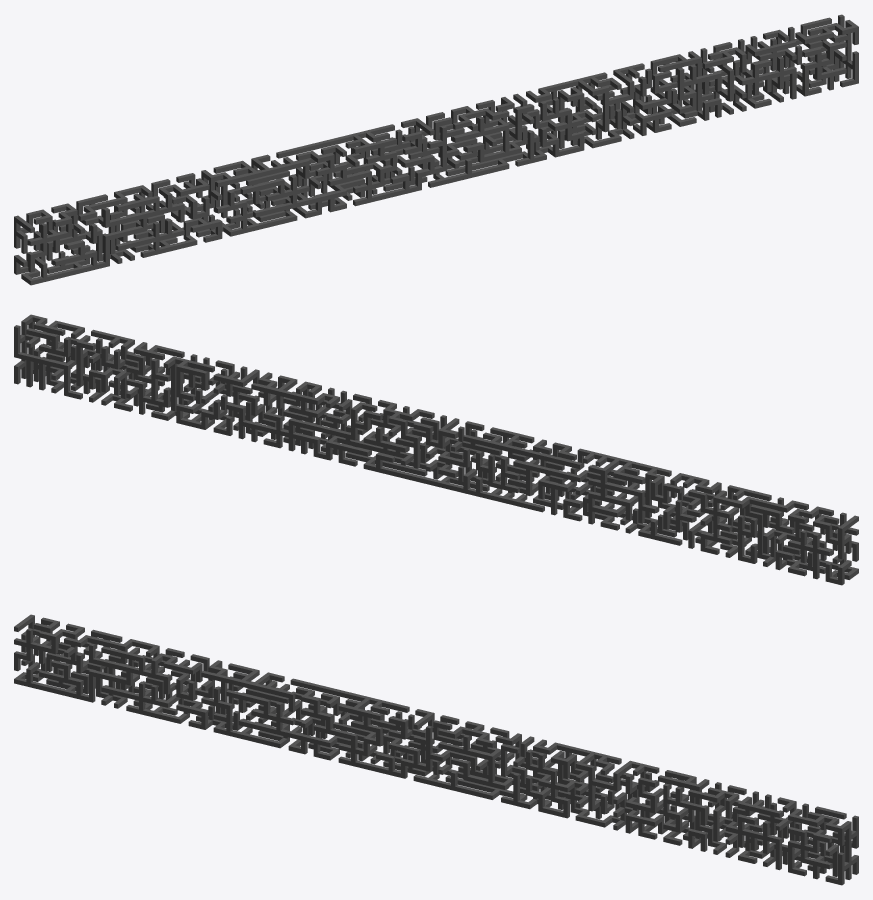
The model's file is BaseFence.obj.
3 renders of one model, top to bottom at view 1: azimuth 30°, elevation 25°; view 2: azimuth 150°, elevation 25°; view 3: azimuth 330°, elevation 25°, orthographic.
Bounding box in the file's own units: 19.9 × 1.3 × 0.7.
Materials: 1 (1 with a texture image).
